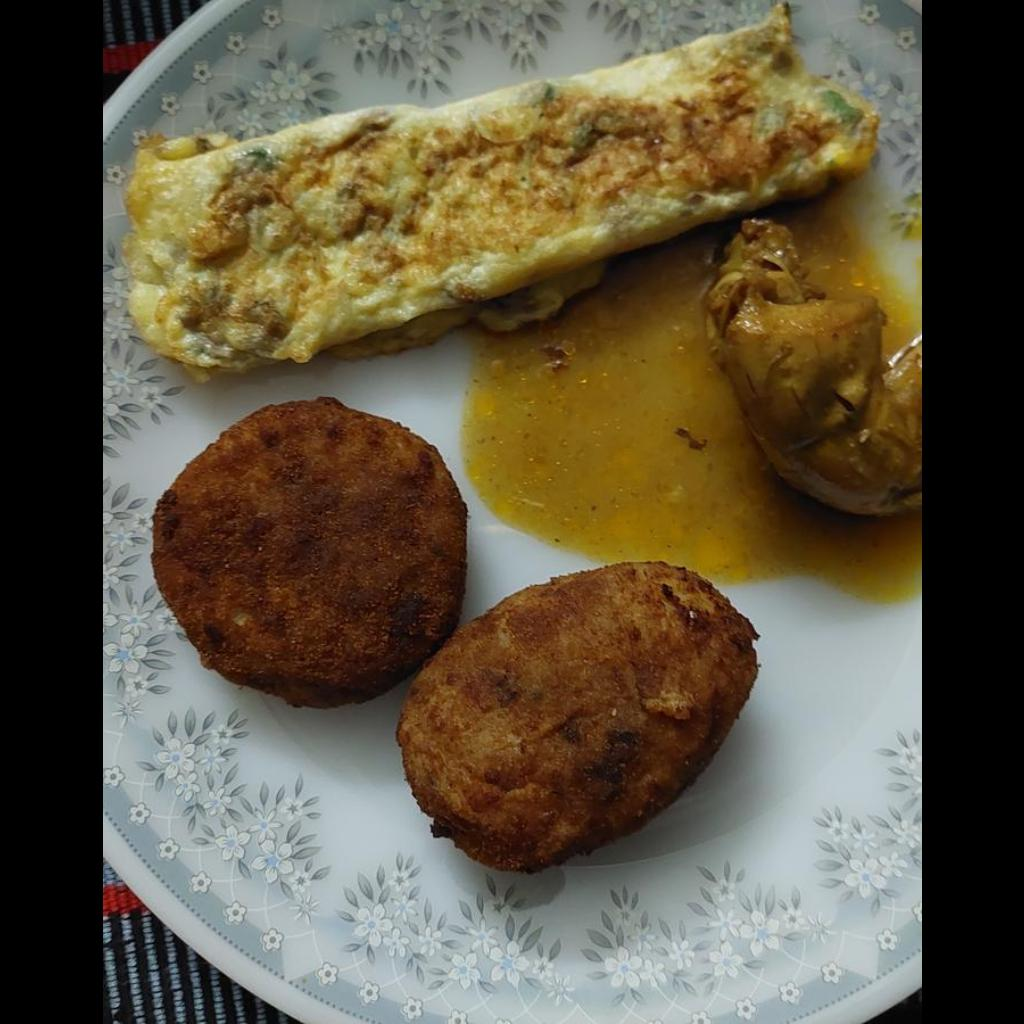chicken: (707, 226, 920, 510)
egg-poached: (129, 7, 881, 371)
kabab: (151, 404, 756, 870)
